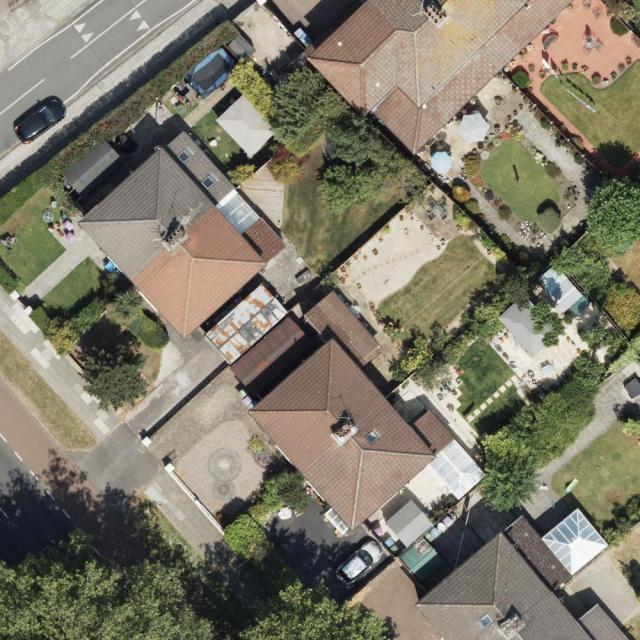roof: (208, 283, 485, 531), (76, 127, 287, 340), (306, 0, 579, 154), (410, 508, 632, 640)
skylight: (541, 509, 609, 576), (427, 439, 487, 502), (365, 428, 382, 446), (202, 172, 219, 189), (176, 147, 194, 163), (478, 613, 494, 630)
